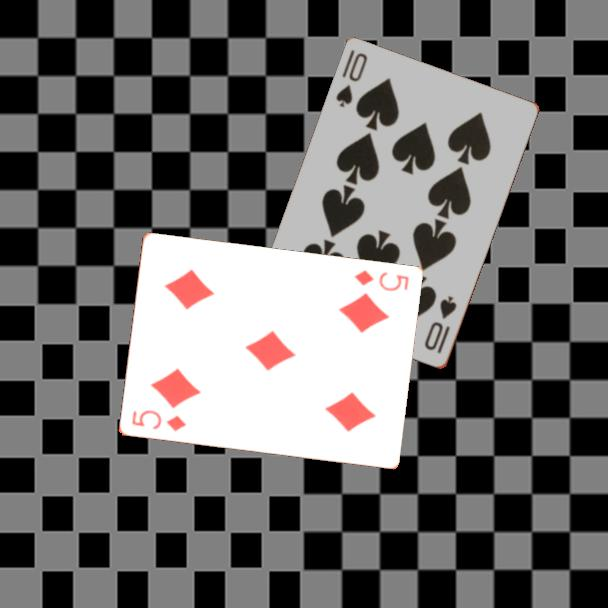d05: (128, 407, 189, 435), (350, 267, 411, 294)
s10: (421, 293, 460, 357), (332, 47, 371, 111)
